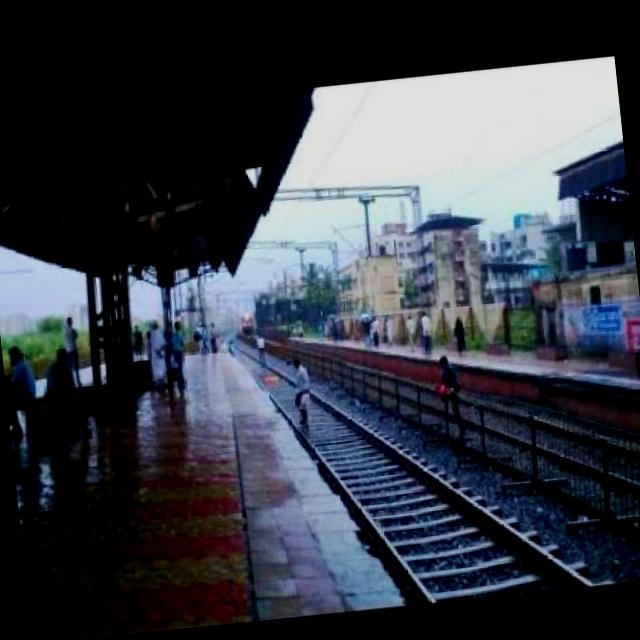Person: (434, 348, 471, 442), (285, 346, 317, 431)
